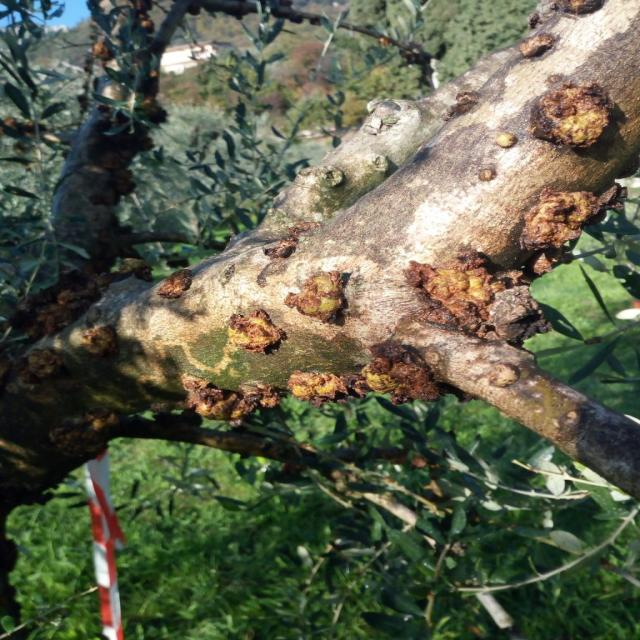Tuberculosis: (404, 252, 505, 338), (531, 82, 619, 149), (519, 189, 609, 252), (361, 341, 447, 404), (182, 378, 283, 422), (50, 409, 120, 464), (285, 271, 344, 323), (288, 371, 361, 408), (228, 309, 287, 354), (263, 223, 312, 259), (155, 268, 197, 298), (82, 326, 116, 358), (494, 134, 517, 148), (478, 164, 496, 181)
